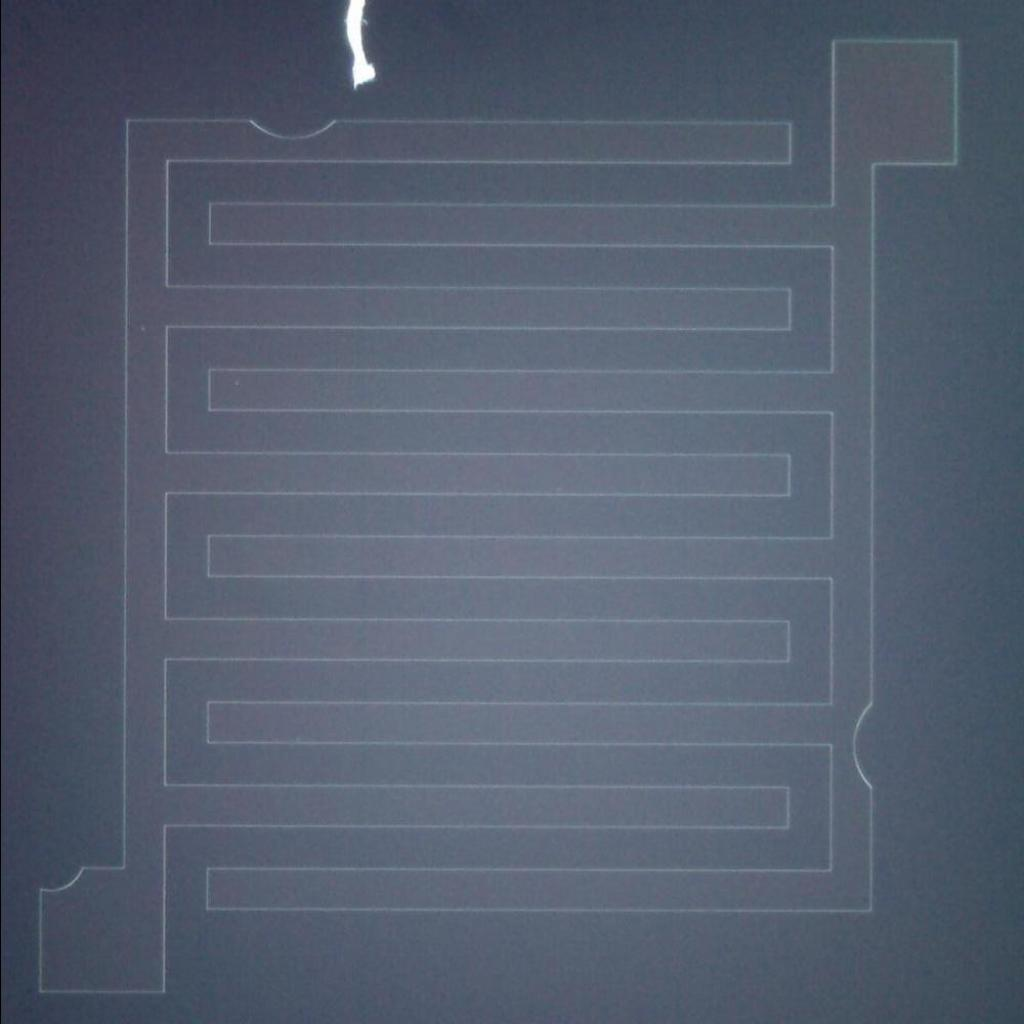curve circuit: (227, 106, 360, 148), (842, 688, 888, 798), (23, 849, 94, 918)
line: (344, 0, 379, 93)
